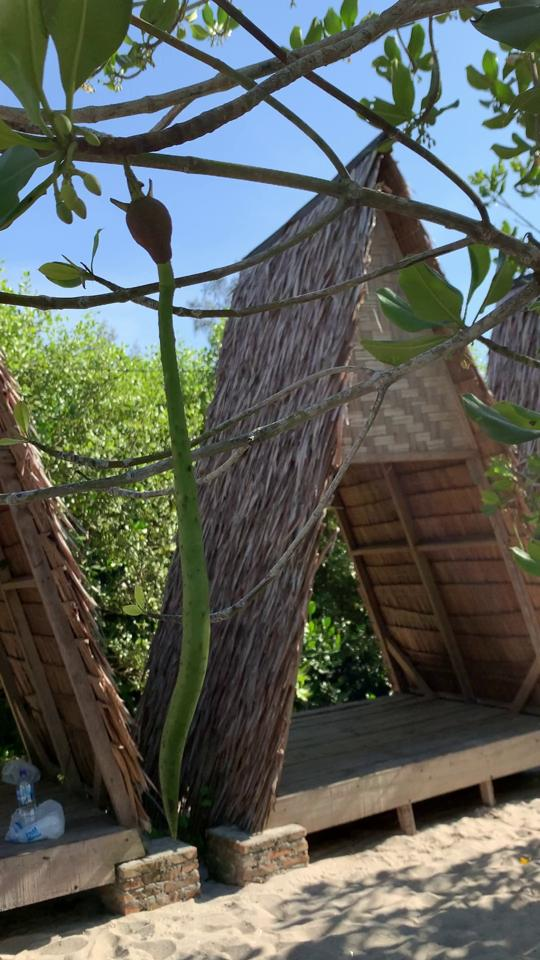setengah matang: (104, 174, 233, 853)
